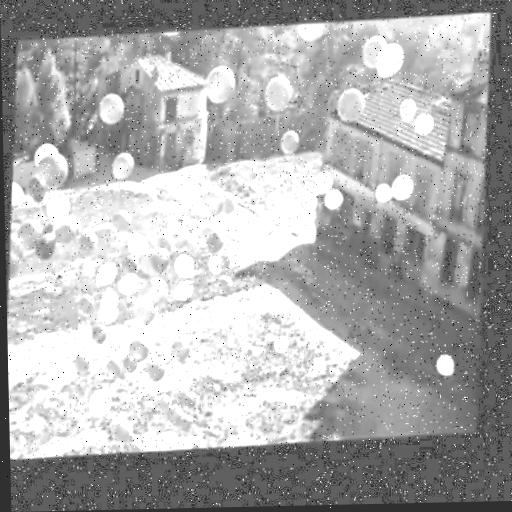balloon: (206, 67, 237, 105), (264, 77, 294, 115), (337, 90, 367, 127), (377, 48, 405, 82), (99, 93, 127, 126), (144, 278, 173, 309), (42, 157, 70, 187), (20, 221, 46, 252), (137, 302, 163, 328), (113, 153, 137, 181), (59, 215, 84, 240), (365, 40, 385, 71), (400, 97, 420, 128), (144, 254, 174, 274), (204, 191, 226, 218), (51, 195, 72, 223), (96, 389, 115, 419), (315, 174, 336, 200), (297, 24, 327, 42), (29, 179, 50, 204), (282, 132, 302, 158), (396, 176, 416, 201), (36, 141, 57, 163), (238, 162, 259, 184), (101, 262, 120, 286), (180, 255, 199, 279), (151, 362, 172, 383), (118, 208, 135, 233), (262, 214, 279, 239), (156, 395, 176, 416), (133, 235, 152, 257), (101, 305, 123, 324), (102, 261, 120, 284), (172, 316, 190, 339), (43, 233, 60, 257), (135, 339, 155, 359), (239, 212, 257, 234), (119, 420, 136, 443), (81, 231, 101, 250), (178, 340, 197, 360), (125, 276, 144, 295), (126, 256, 145, 275), (80, 352, 98, 372), (159, 234, 177, 254), (443, 356, 459, 378), (416, 120, 435, 138), (181, 281, 196, 302), (216, 300, 232, 319), (176, 230, 192, 249), (105, 289, 124, 305), (257, 293, 271, 314), (114, 358, 128, 379), (284, 216, 300, 234), (98, 322, 111, 344), (380, 186, 395, 205), (306, 223, 320, 242), (203, 227, 222, 241), (277, 341, 294, 356), (13, 255, 25, 276), (224, 278, 238, 296), (213, 257, 226, 276), (331, 194, 345, 211), (213, 238, 227, 255), (187, 418, 201, 435), (237, 321, 252, 336), (135, 439, 151, 453), (129, 358, 143, 374), (227, 198, 241, 212), (191, 394, 205, 408), (213, 238, 227, 251), (12, 184, 24, 199), (174, 411, 186, 424), (168, 437, 181, 448), (222, 258, 236, 267)
